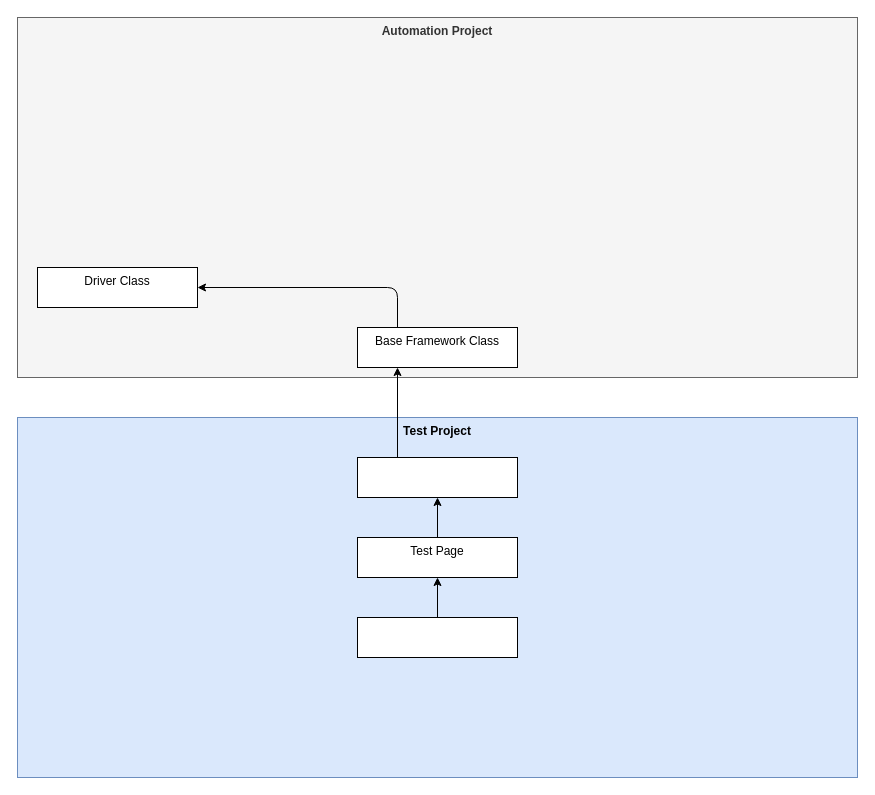
This 875x795 diagram has some shape labels left out. The centre of each missing label's shape, as x and y in pixels:
Base Test Class: the point at 437,477
Test: the point at 437,637
